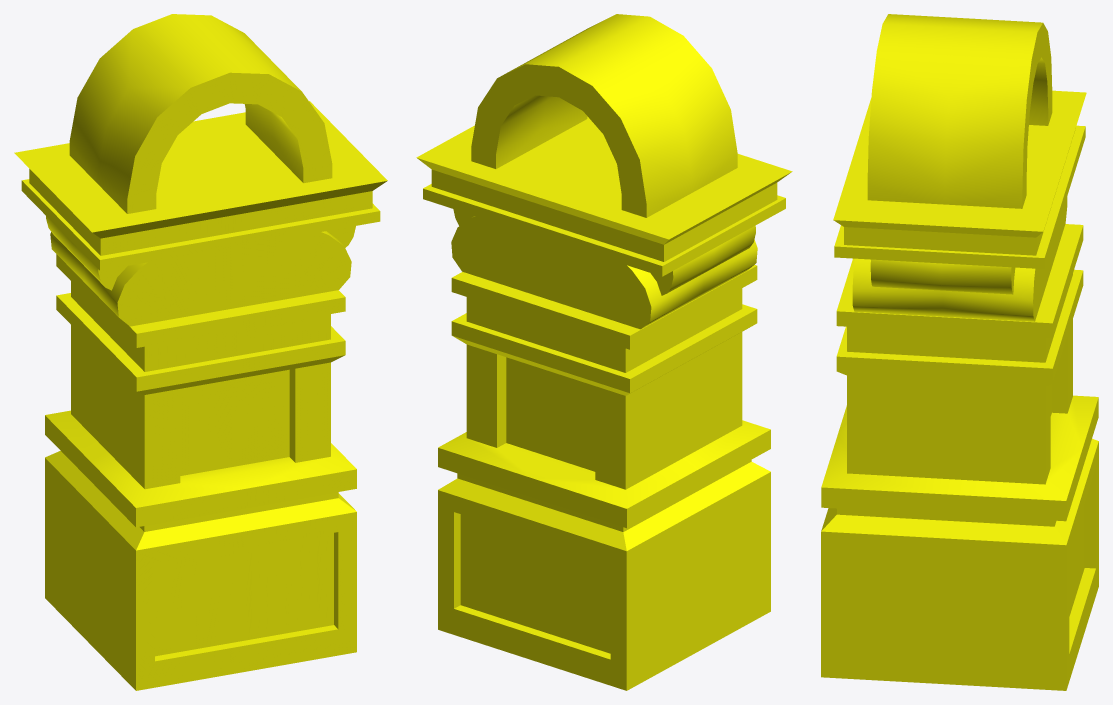
The model's file is 2st_pillar_002.glb.
3 renders of one model, left to right at view 1: azimuth 30°, elevation 25°; view 2: azimuth 150°, elevation 25°; view 3: azimuth 270°, elevation 25°, orthographic. The views are drawn at different scales.
Visible parts, largest first — view 1: 4st_pillar_002; view 2: 4st_pillar_002; view 3: 4st_pillar_002.
Part boxes in pixels (<box>): 4st_pillar_002: <box>14,14,387,690</box>; 4st_pillar_002: <box>416,14,792,690</box>; 4st_pillar_002: <box>821,14,1098,690</box>.
Bounding box in the file's own units: 5.23 × 9.77 × 4.07.
Materials: 1 (1 with a texture image).
